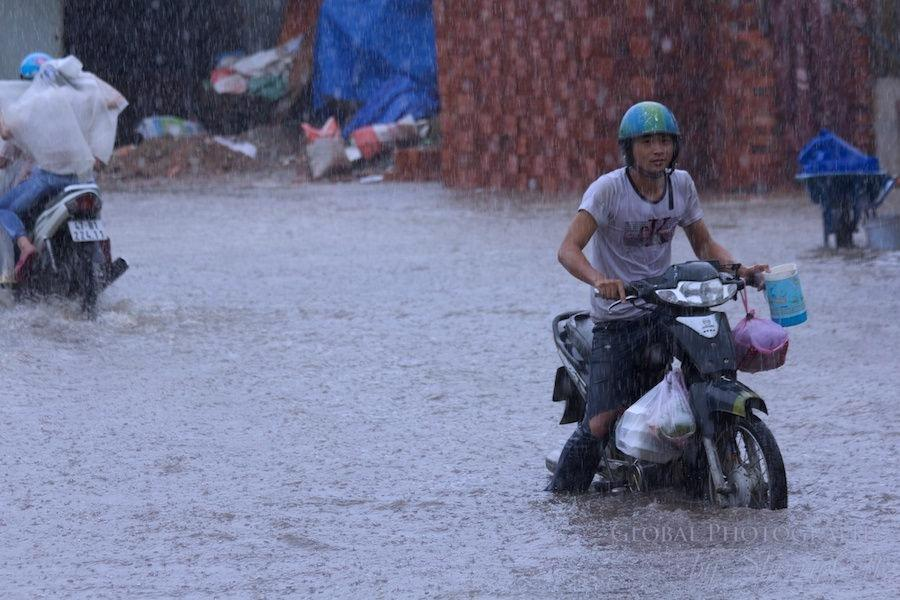ROAD_FLOODING: (14, 264, 814, 540)
